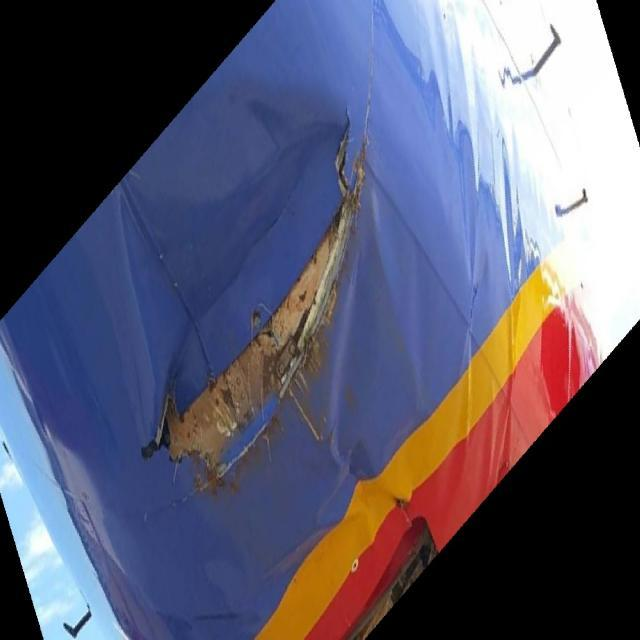crack: (142, 103, 371, 511)
